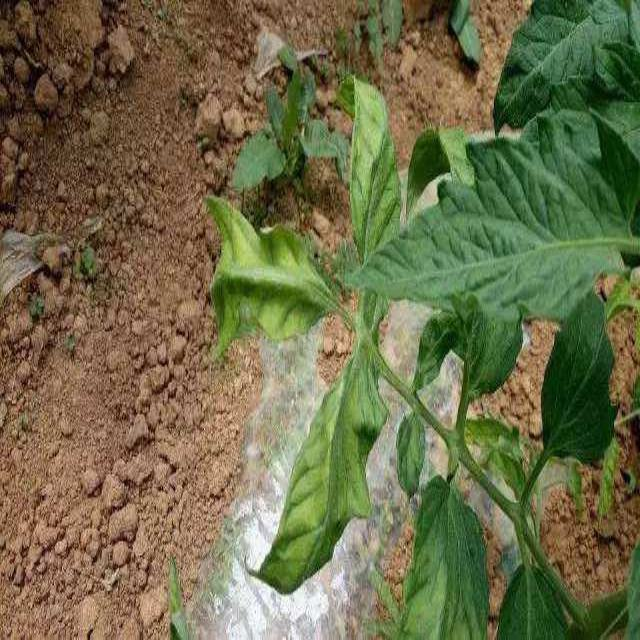Early_blight: (252, 359, 387, 592), (200, 196, 329, 356), (347, 81, 399, 256)
